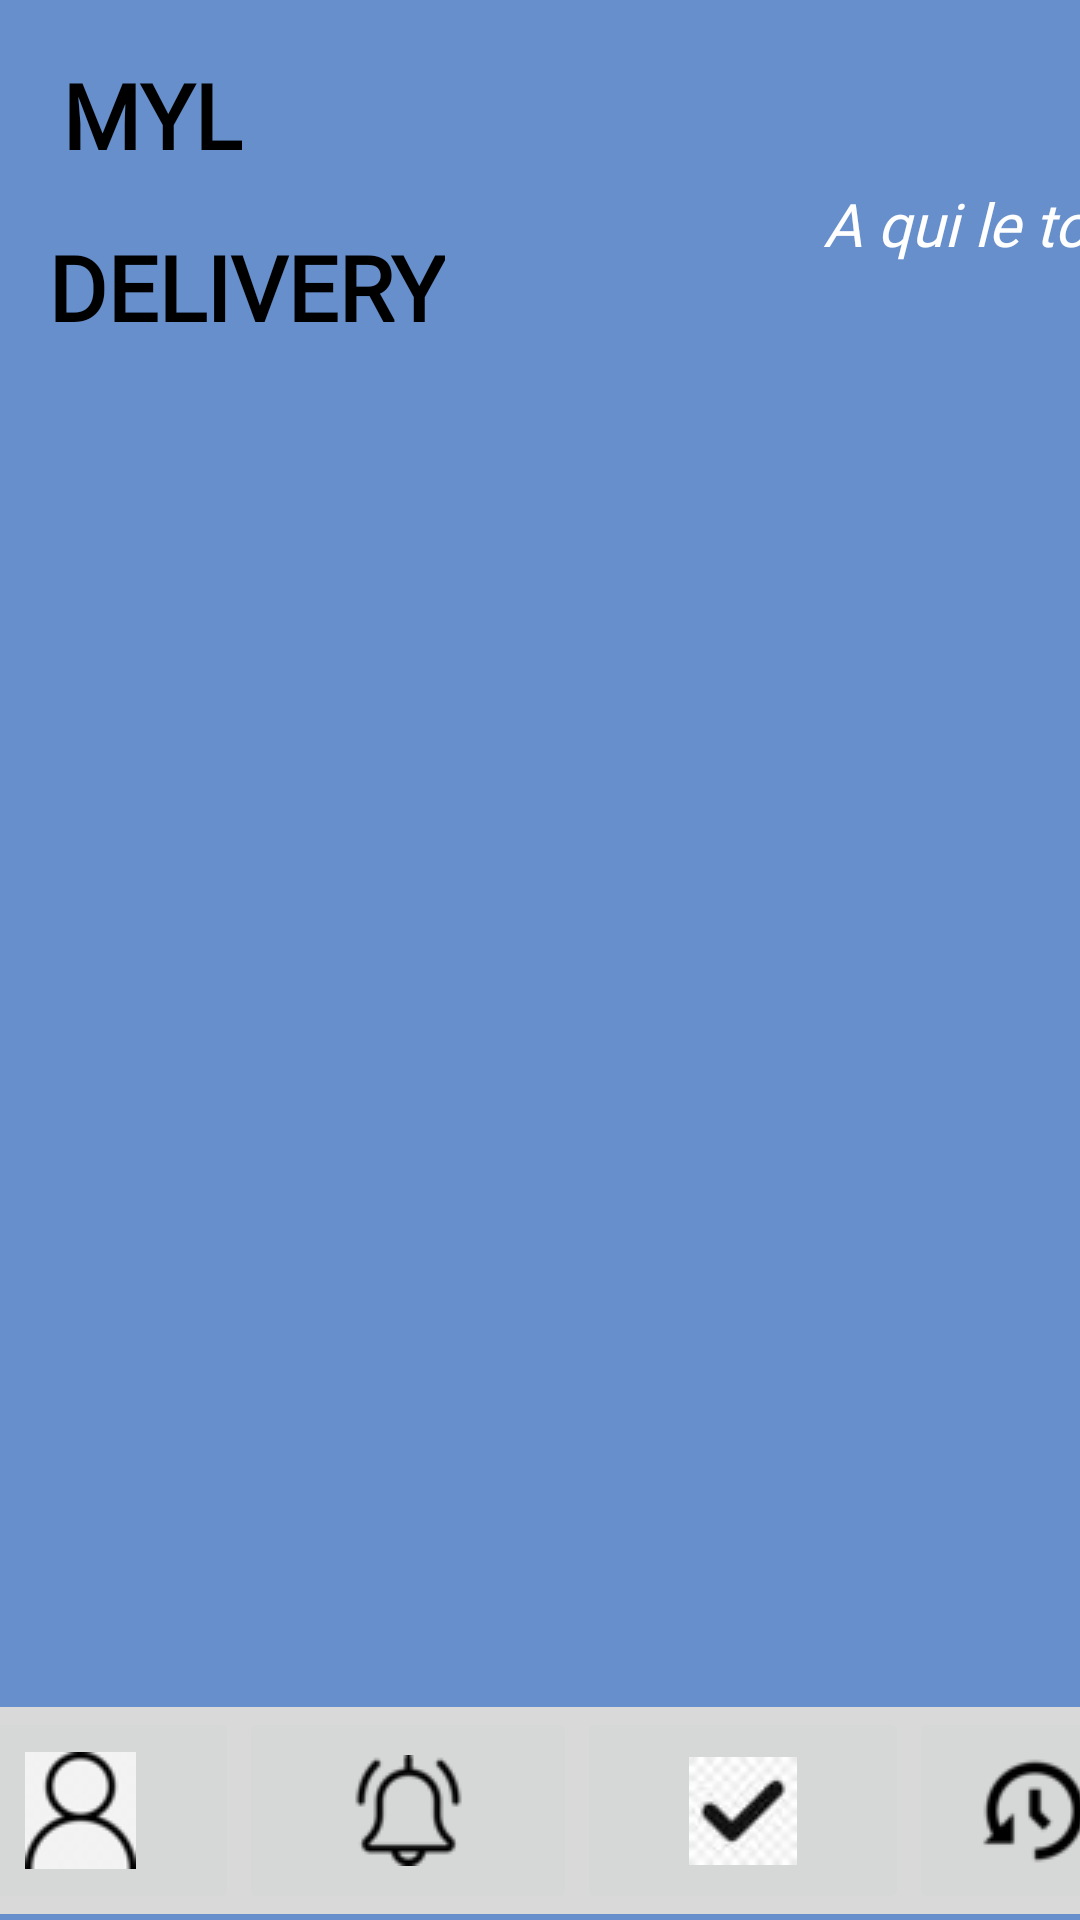

Screen size 1080w x 1920h. Icon name, then its box in pixels as (x1, y1, x2, y2):
cloche: (355, 1755, 462, 1866)
validation: (689, 1757, 797, 1865)
